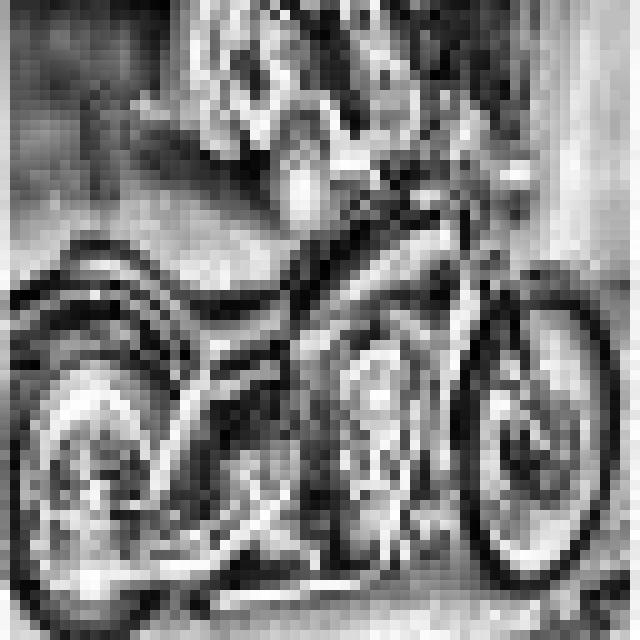mopeds: (8, 92, 627, 640)
